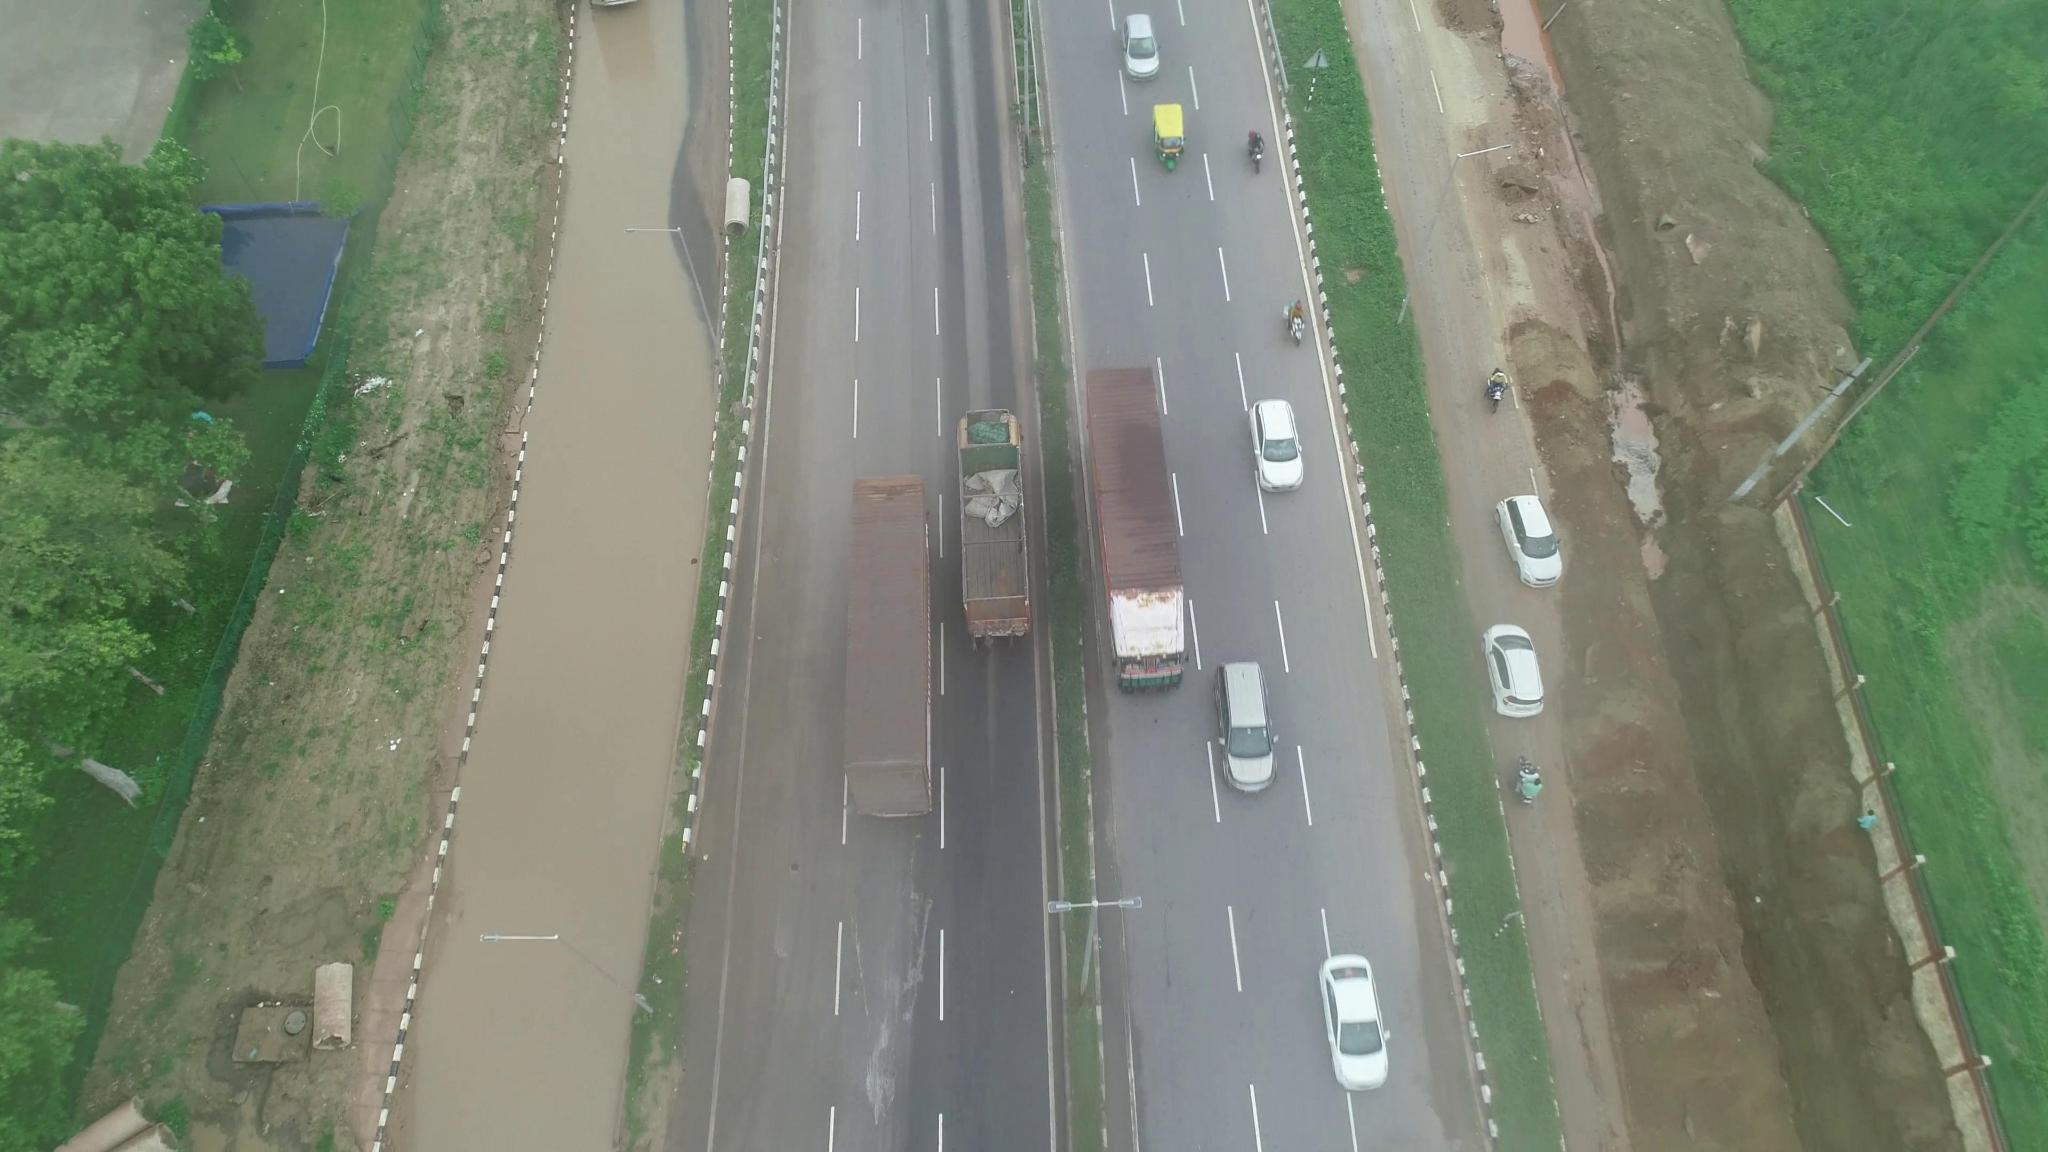Waterlogging: (416, 491, 661, 1024), (535, 34, 691, 477)
